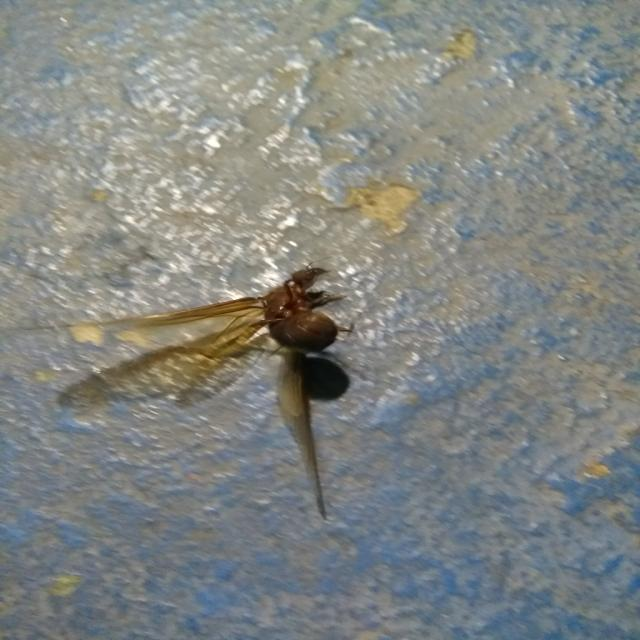Dead-Female-Alate: (26, 256, 354, 522)
